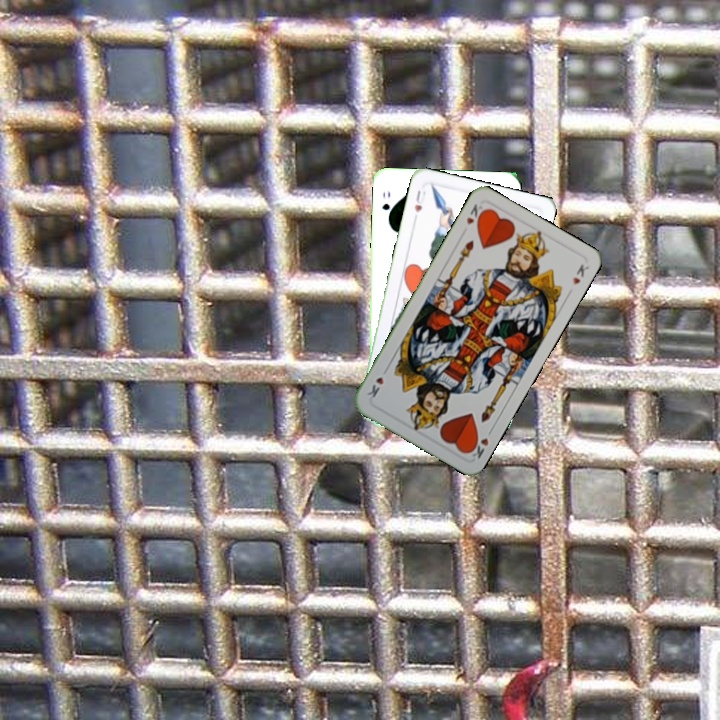GO: (378, 186, 395, 223)
HK: (465, 424, 496, 461), (462, 200, 489, 228)
HU: (410, 186, 428, 215)
